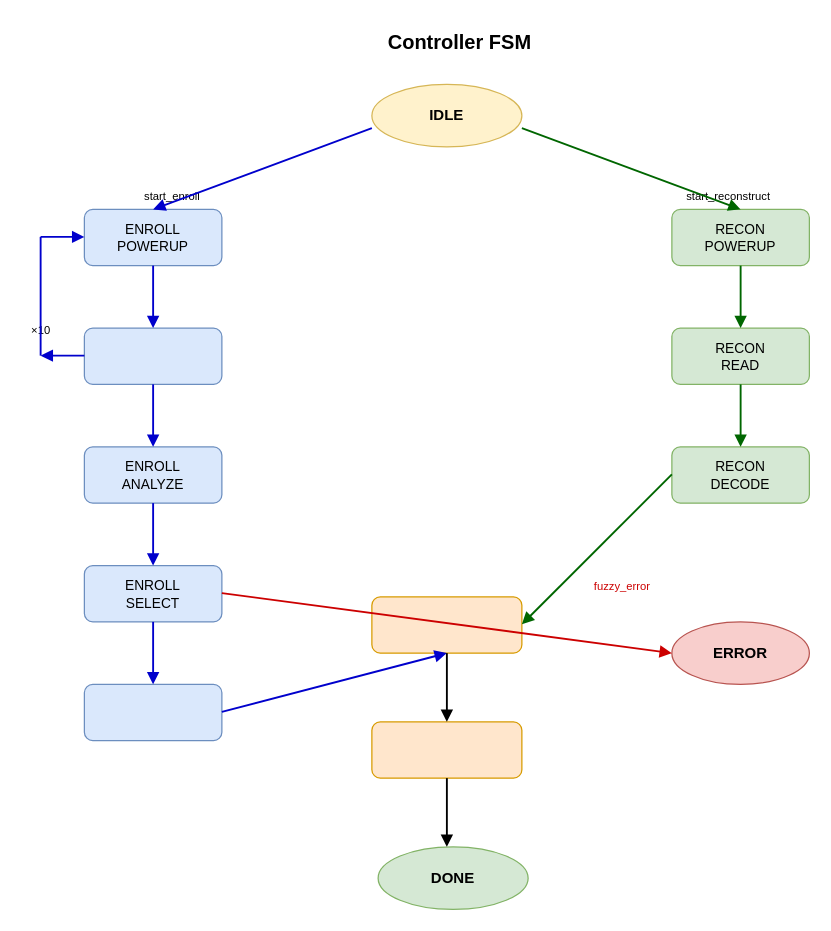
Image size: 831x931. Some labels were removed from this diagram. Each missing label, with the centre of its shape:
ENROLL EXTRACT: [152,712]
ENROLL WAIT READ: [152,355]
KEYGEN SHA-256: [446,624]
LFSR 256 cycles: [446,749]
